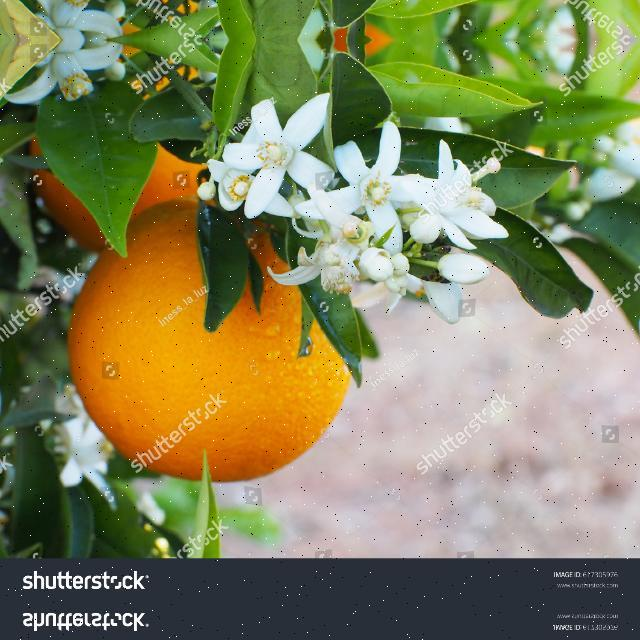Orange: (65, 196, 353, 482), (28, 132, 211, 251)
